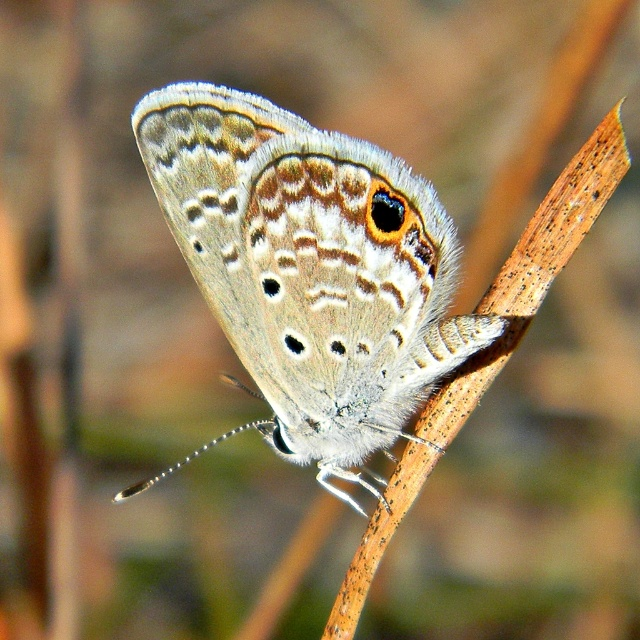Butterfly: (107, 75, 513, 526)
